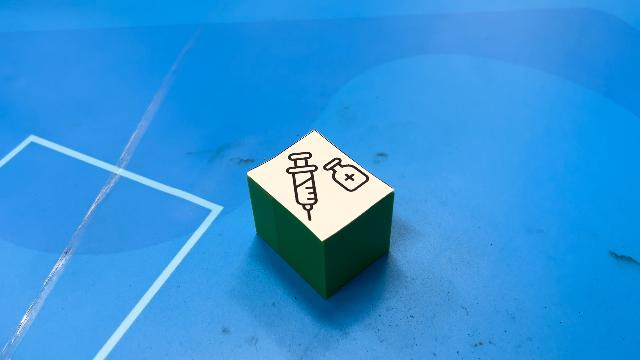syringe: (246, 132, 394, 298)
